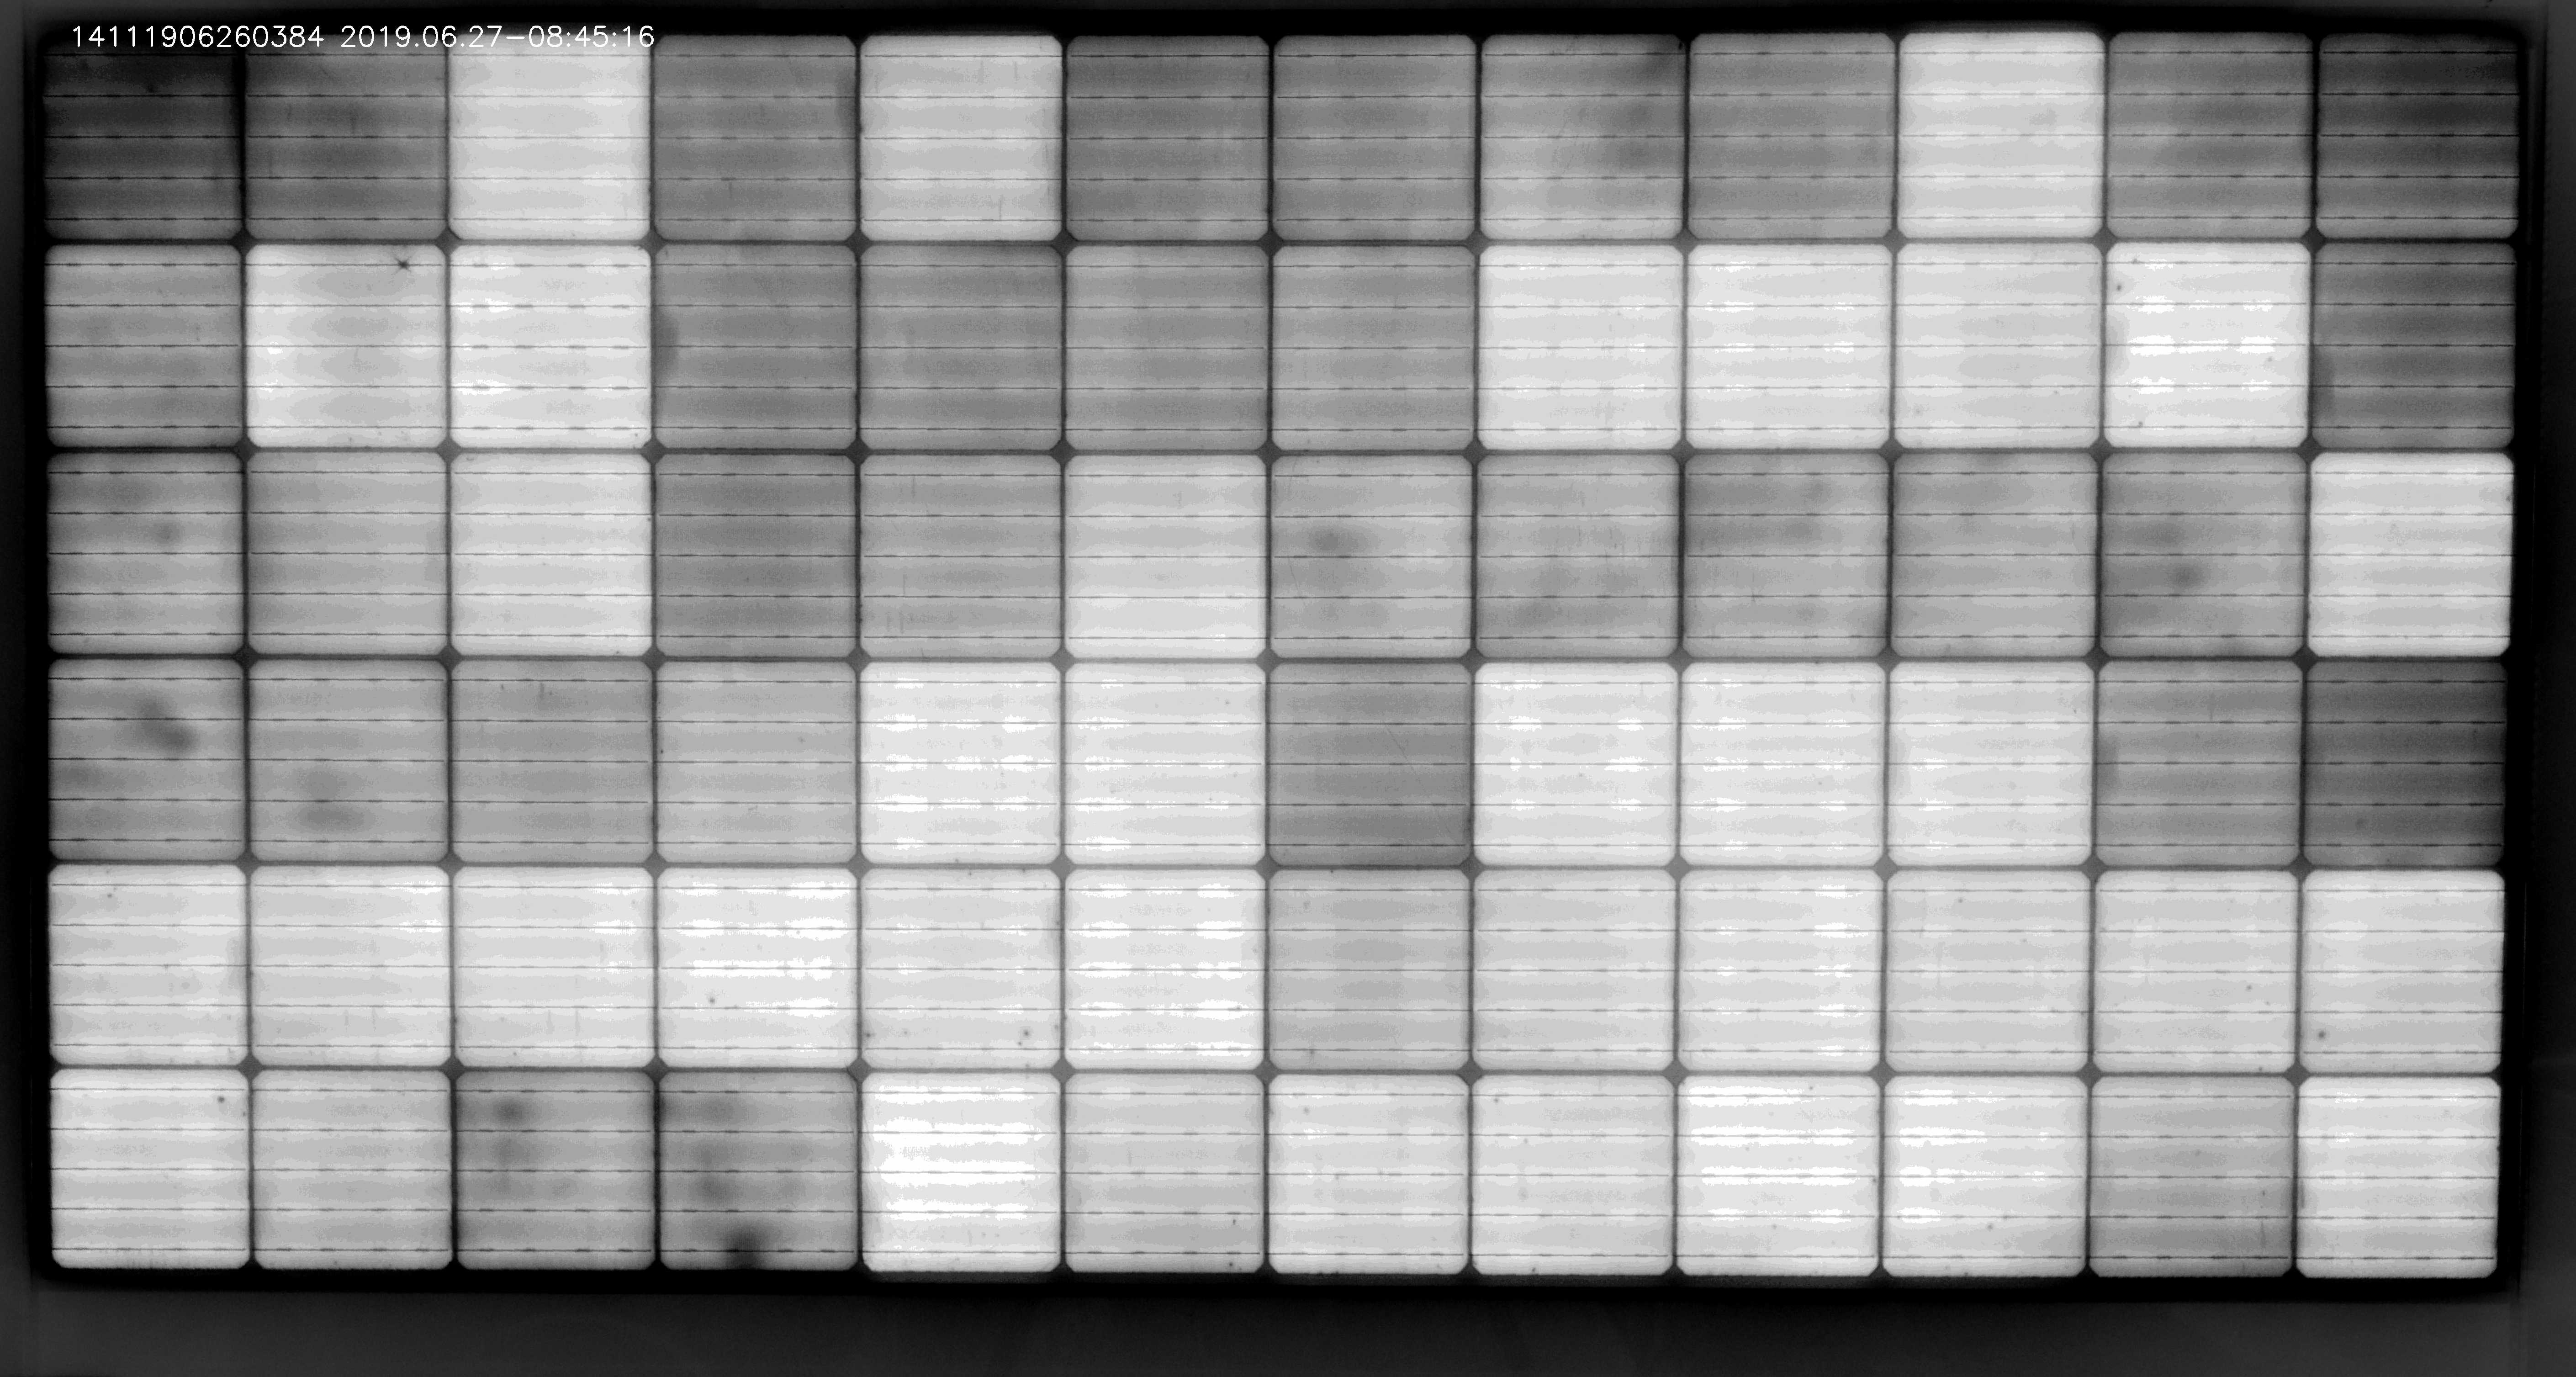5,11: (24, 26, 261, 254), (34, 1053, 269, 1282), (2303, 20, 2532, 247)
